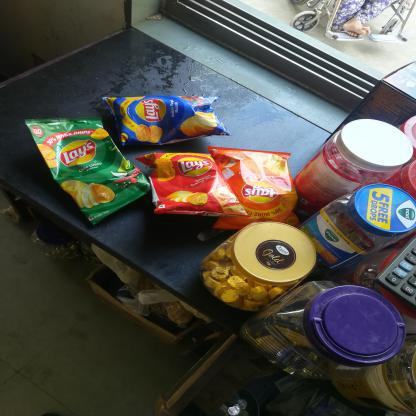chile_limon: (22, 114, 144, 226)
hot_and_sweet: (210, 152, 303, 232)
indian_magic_masala: (94, 97, 241, 145)
tangy_tomato: (137, 158, 240, 217)
